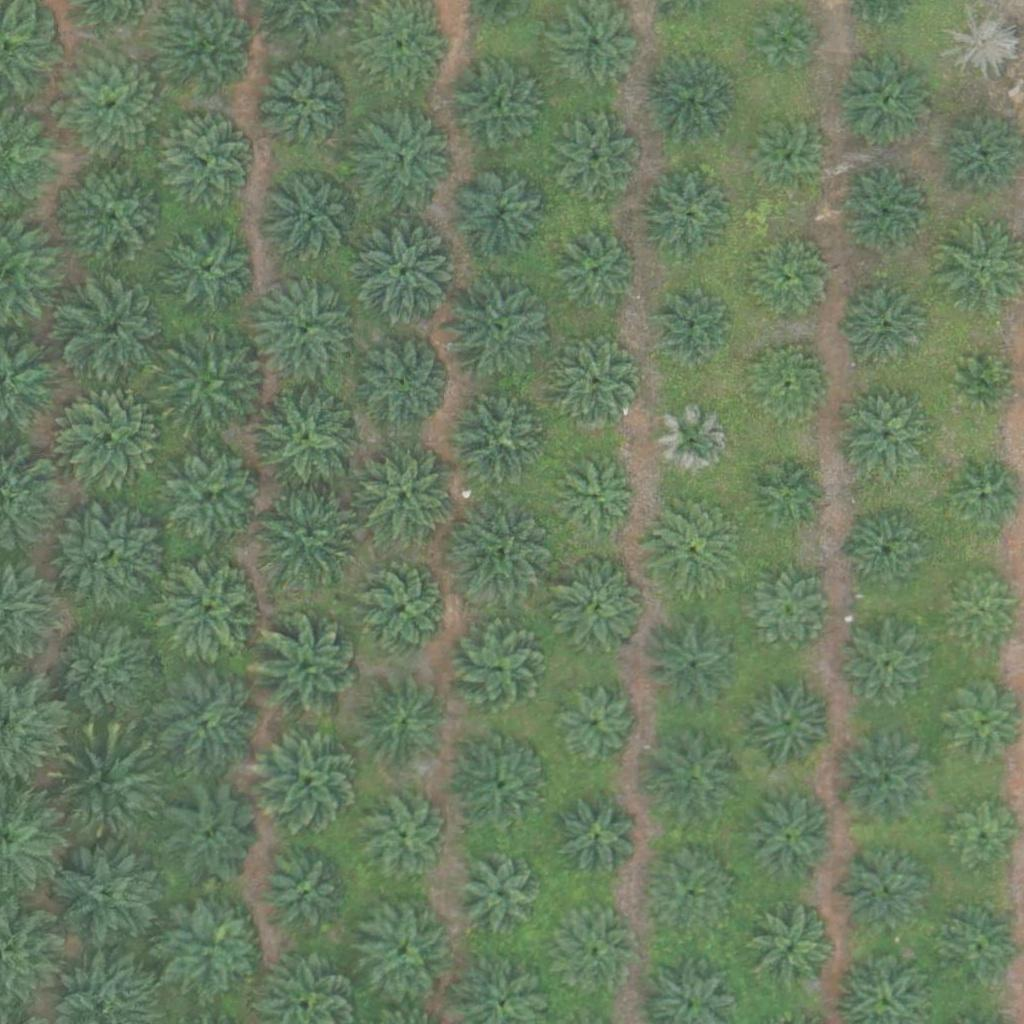Kelapa_Sawit: (56, 49, 169, 163), (60, 161, 173, 275), (157, 325, 270, 439), (249, 382, 362, 496), (257, 481, 370, 595), (444, 272, 557, 385), (251, 613, 364, 726), (253, 723, 366, 836), (52, 836, 165, 949), (247, 275, 359, 389), (444, 497, 556, 611), (60, 276, 172, 389), (59, 500, 171, 613), (351, 216, 463, 329), (50, 616, 162, 729), (49, 731, 161, 844), (62, 387, 162, 488), (159, 1, 259, 102), (164, 444, 264, 545), (260, 60, 360, 161), (262, 166, 362, 267), (355, 104, 455, 205), (449, 56, 549, 157), (452, 164, 552, 265), (450, 388, 550, 489), (648, 497, 748, 598), (831, 731, 931, 832), (736, 562, 836, 663), (736, 672, 836, 773), (642, 612, 742, 713), (353, 672, 453, 773), (354, 900, 454, 1001), (157, 559, 257, 660), (154, 671, 254, 772), (163, 787, 263, 888), (164, 897, 264, 998), (159, 110, 259, 210), (162, 221, 262, 321), (354, 332, 454, 432), (356, 449, 456, 549), (838, 52, 938, 152), (645, 728, 745, 828), (550, 556, 650, 656), (449, 618, 549, 718), (453, 734, 553, 834), (353, 559, 453, 659), (554, 118, 642, 207), (744, 342, 832, 431), (846, 509, 934, 598), (745, 449, 833, 537), (648, 61, 736, 149), (645, 174, 733, 262), (747, 240, 835, 328), (841, 623, 929, 711), (840, 848, 928, 936), (553, 685, 641, 773), (262, 849, 350, 937), (551, 232, 638, 320), (554, 342, 641, 430), (843, 169, 930, 257), (842, 285, 929, 373), (843, 395, 930, 483), (745, 796, 832, 884), (748, 907, 835, 995), (648, 856, 735, 944), (460, 848, 547, 936), (362, 792, 449, 880), (560, 459, 635, 535), (944, 5, 1019, 81), (562, 802, 637, 878), (560, 913, 635, 989), (750, 124, 825, 199), (948, 802, 1023, 877), (654, 292, 729, 367), (656, 406, 731, 481), (942, 571, 1017, 646), (752, 4, 815, 67), (952, 355, 1015, 418)
